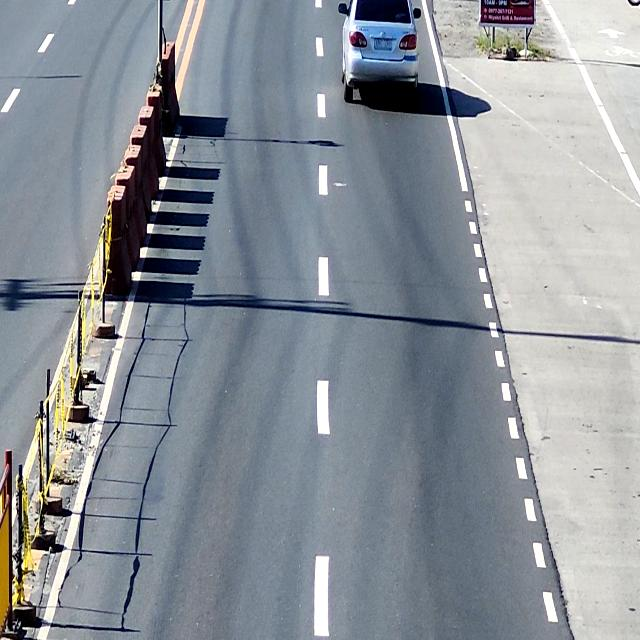Car: (341, 0, 419, 105)
License-Plate: (374, 35, 393, 53)
